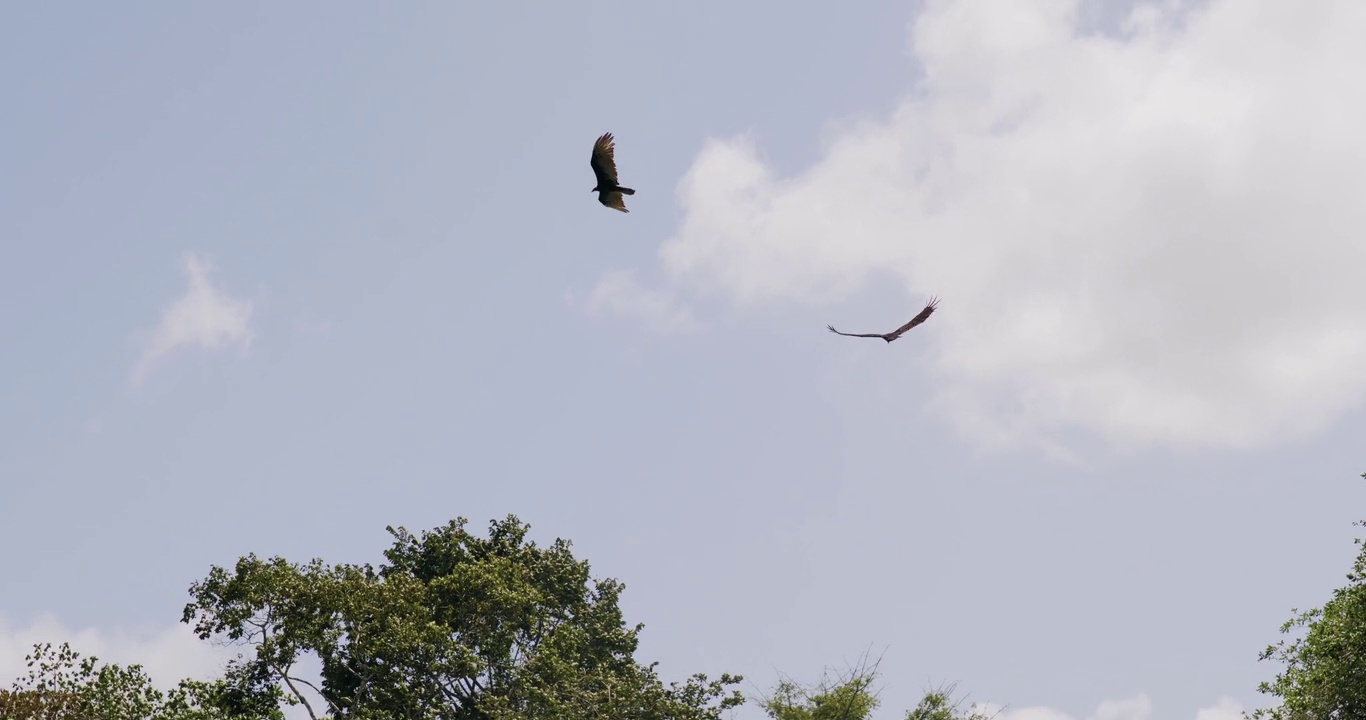bird: (829, 298, 939, 343), (586, 132, 631, 214)
